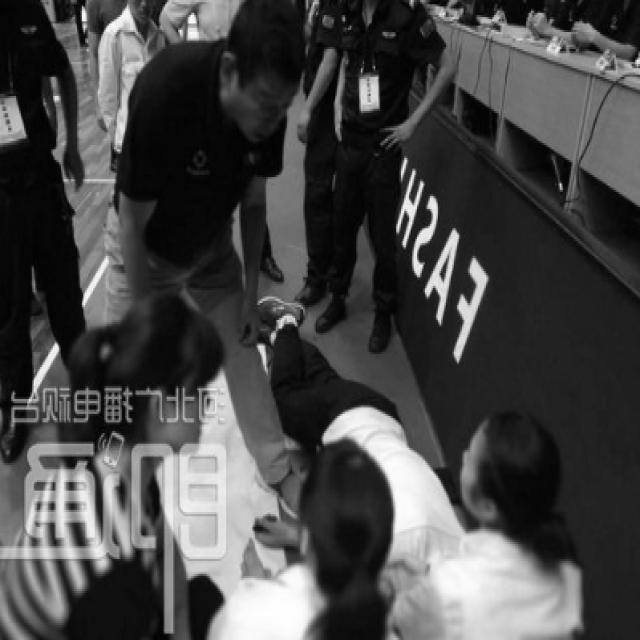nofight: (119, 0, 320, 454)
